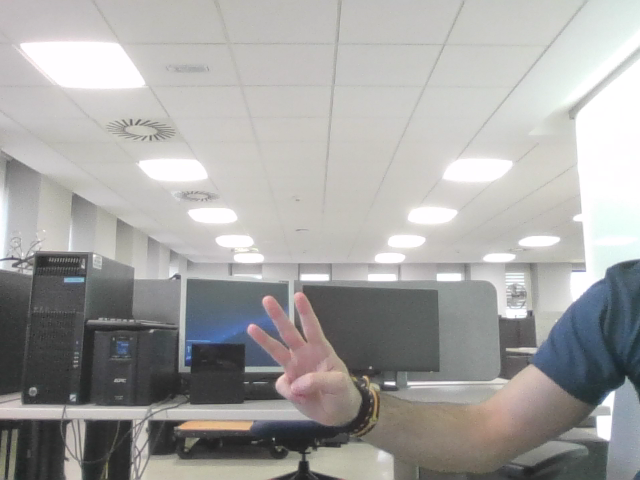3Dedos: (257, 303, 340, 393)
